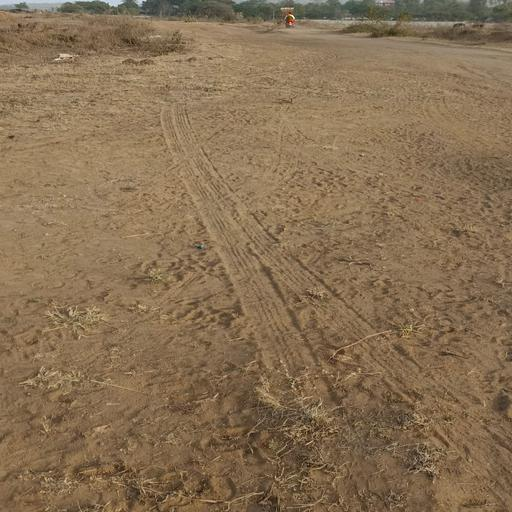vehicle_track: (162, 101, 512, 512)
